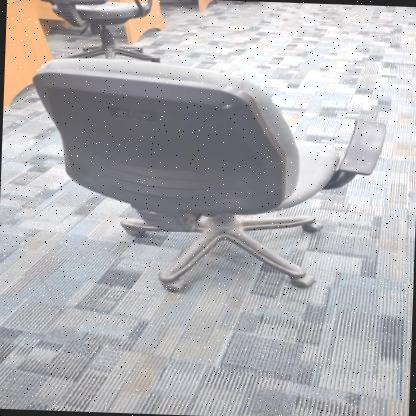chair: (21, 51, 398, 307)
